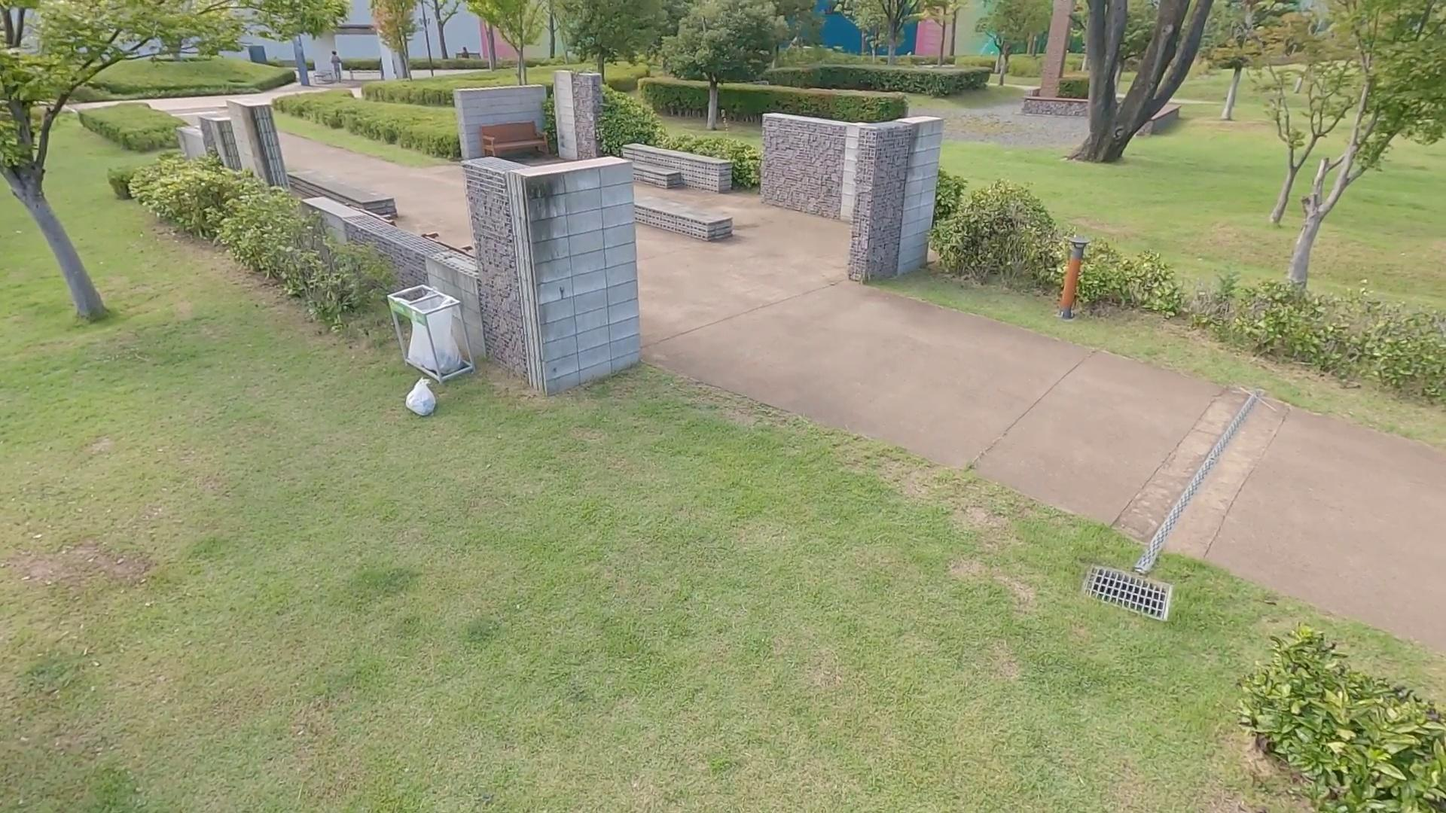trash: (405, 376, 443, 420)
